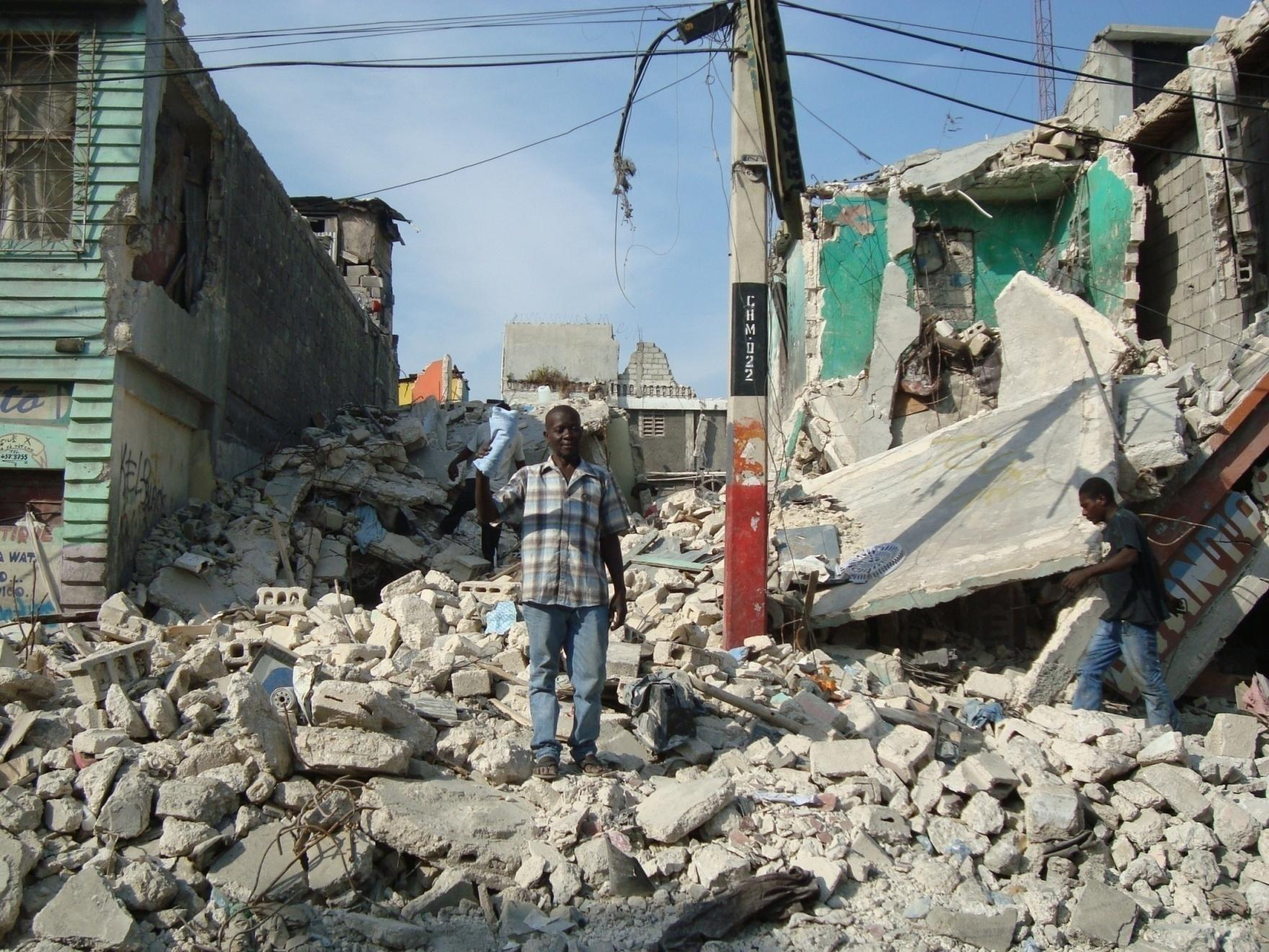victim: (498, 405, 634, 784), (1062, 471, 1191, 746)
